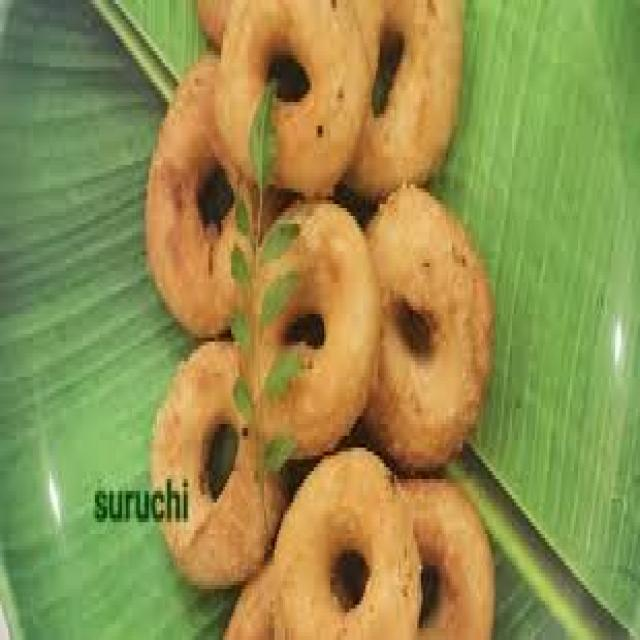MEDU VADA: (238, 198, 390, 462), (365, 187, 492, 470), (145, 57, 271, 342), (155, 340, 281, 581), (217, 0, 364, 199), (270, 450, 422, 636), (342, 0, 468, 199), (409, 480, 489, 636)
